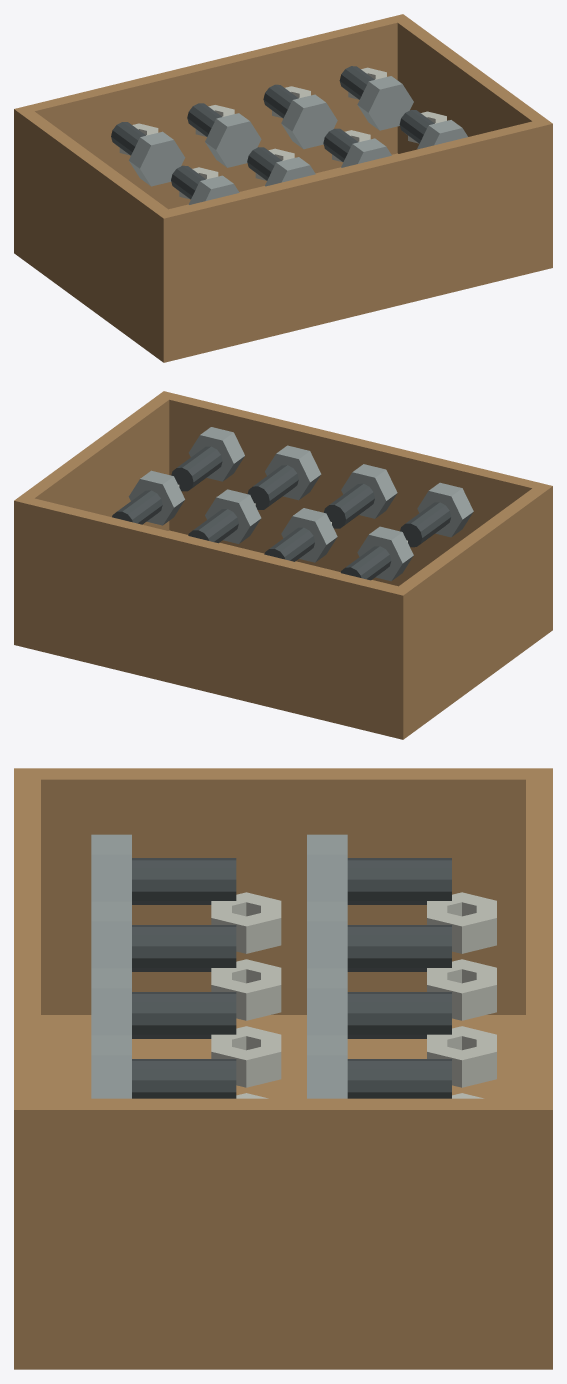
Rendered from MAT_Fasteners.glb.
3 views of the same model, one above another, from view 1: azimuth 30°, elevation 25°; view 2: azimuth 150°, elevation 25°; view 3: azimuth 270°, elevation 25° (orthographic). The views are drawn at different scales.
Visible parts, largest first — view 1: Bin, HexHeads, Shanks, Nuts; view 2: Bin, HexHeads, Shanks; view 3: Bin, Shanks, HexHeads, Nuts.
Boxes of the visible parts, box(x1,y1,x2,y2) form: Bin: box(14, 14, 552, 362); HexHeads: box(129, 76, 467, 204); Shanks: box(111, 66, 434, 199); Nuts: box(119, 67, 446, 199); Bin: box(14, 391, 552, 739); HexHeads: box(128, 427, 473, 581); Shanks: box(112, 446, 451, 580); Bin: box(14, 768, 552, 1369); Shanks: box(132, 858, 451, 1098); HexHeads: box(91, 834, 347, 1098); Nuts: box(211, 892, 496, 1098).
Bounding box in the file's own units: 0.24 × 0.085 × 0.16.
